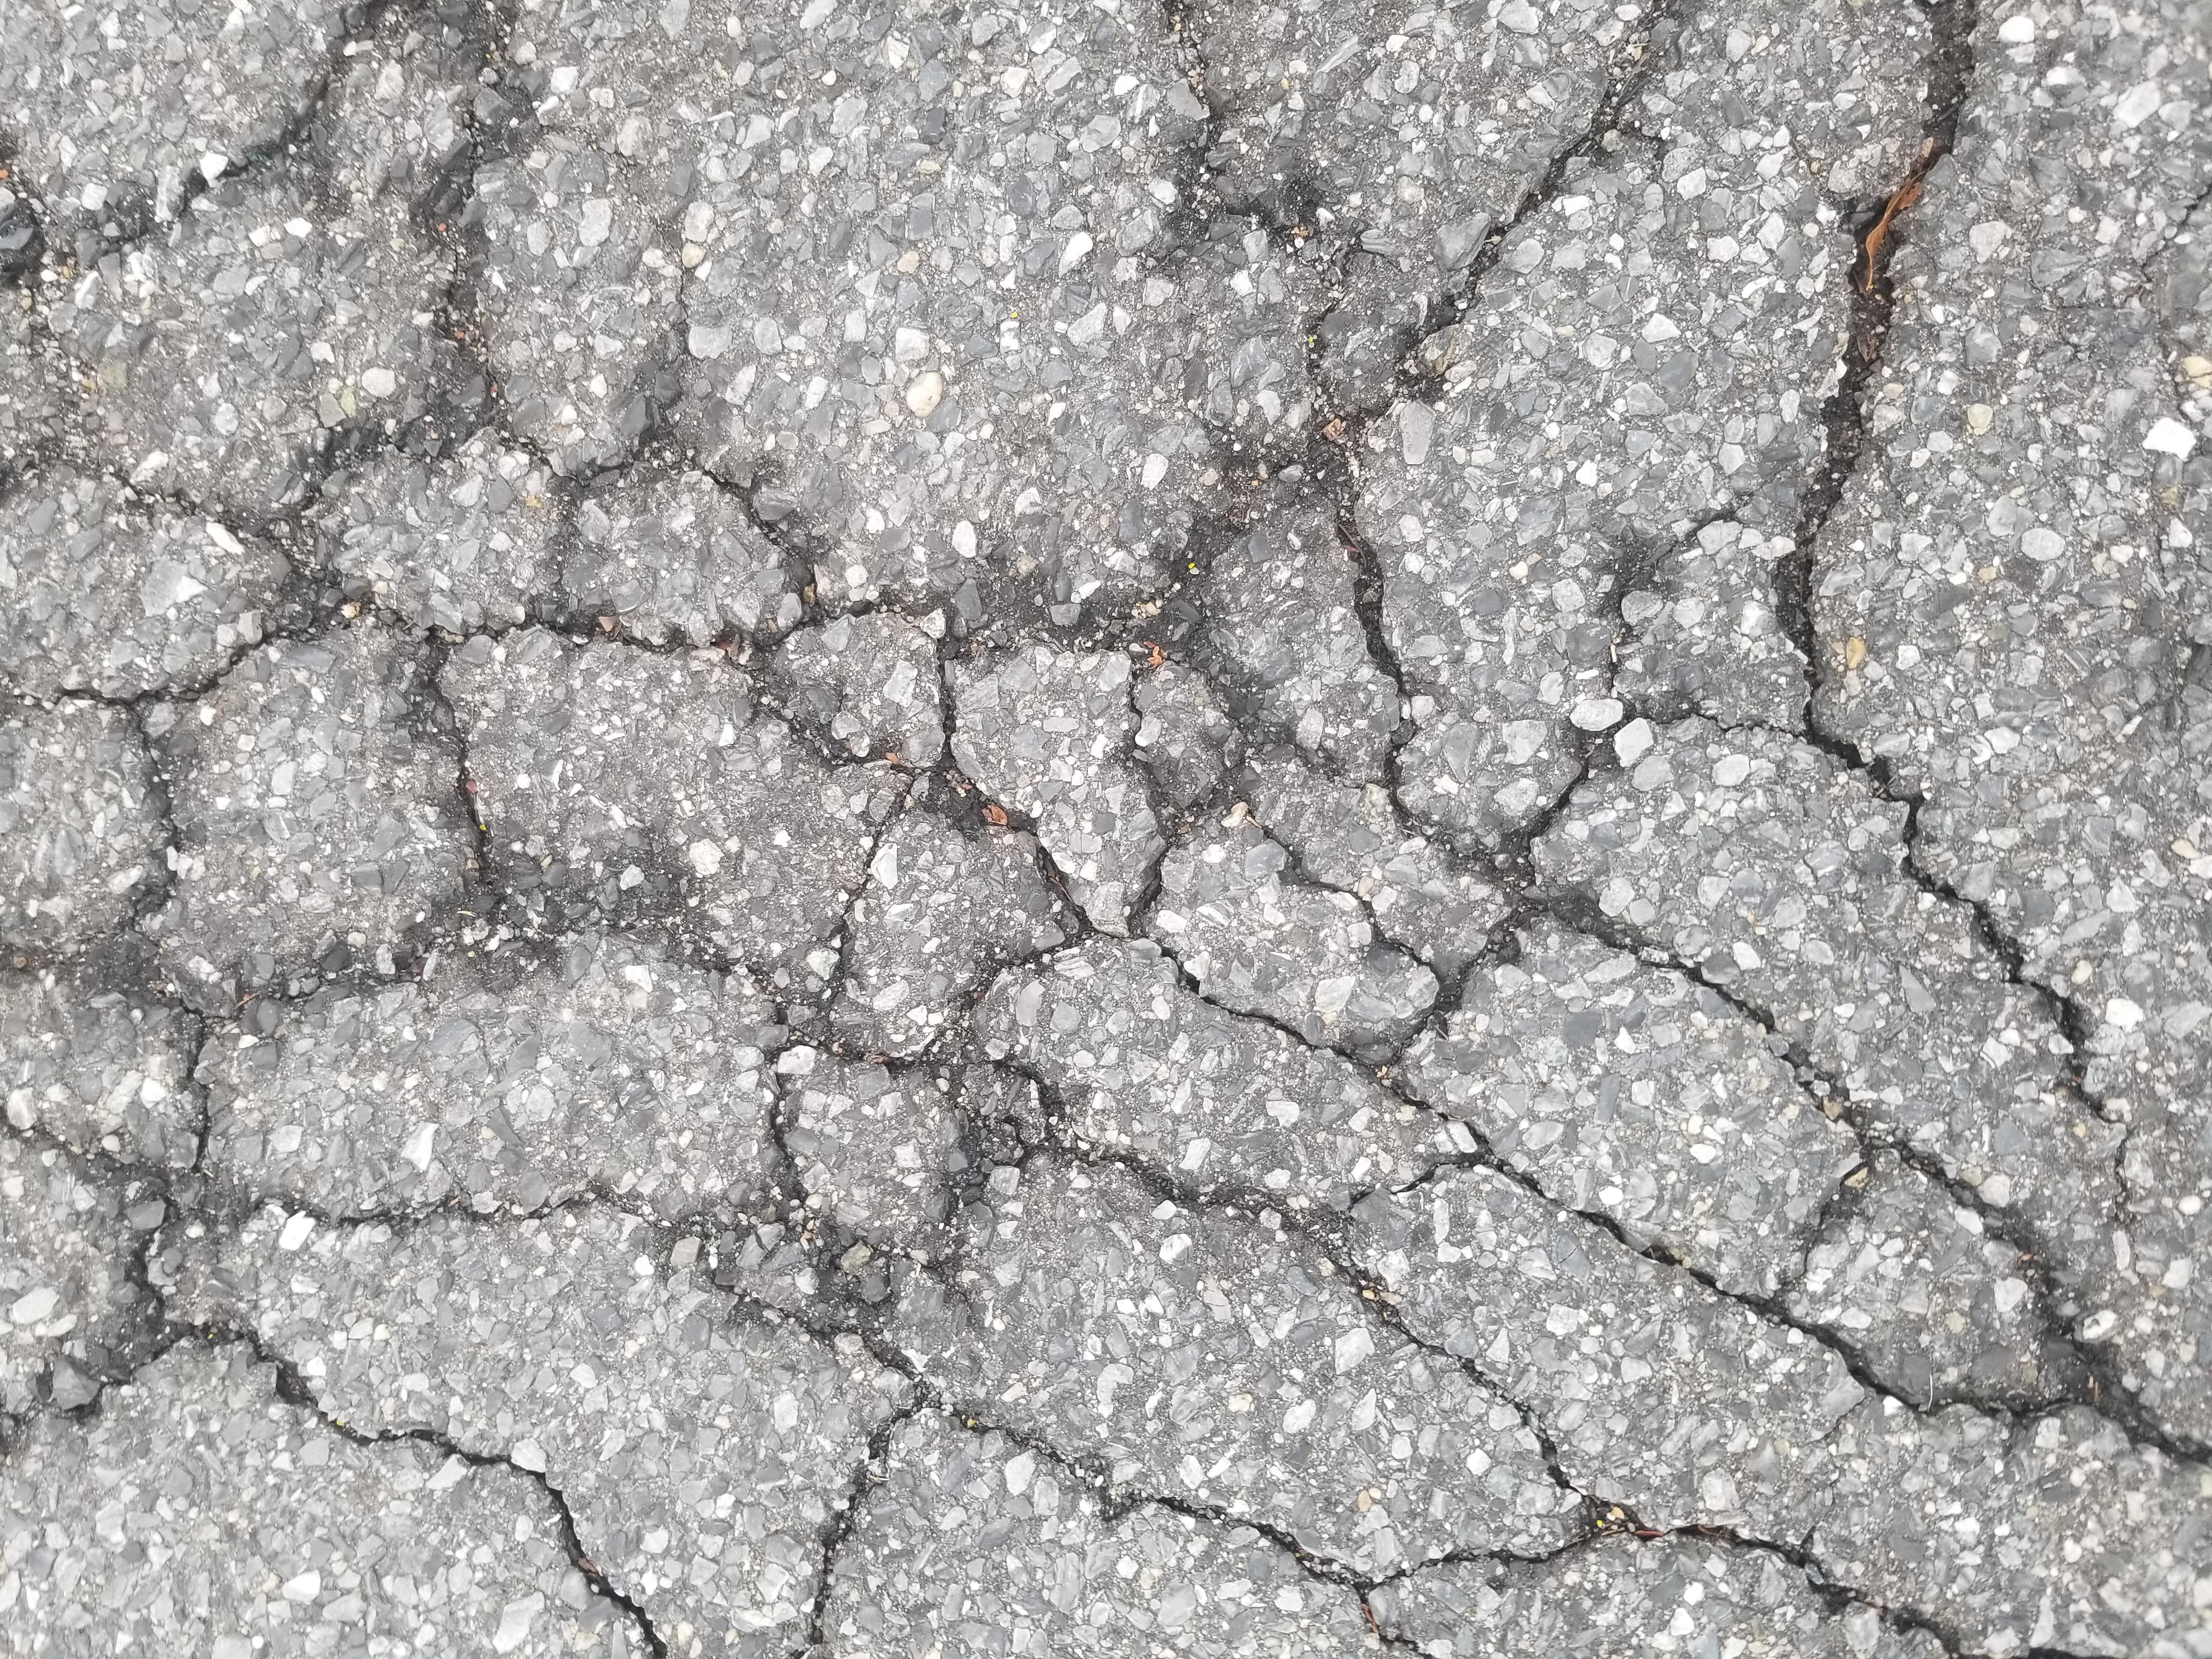alligator-crack: (7, 3, 2189, 1645)
